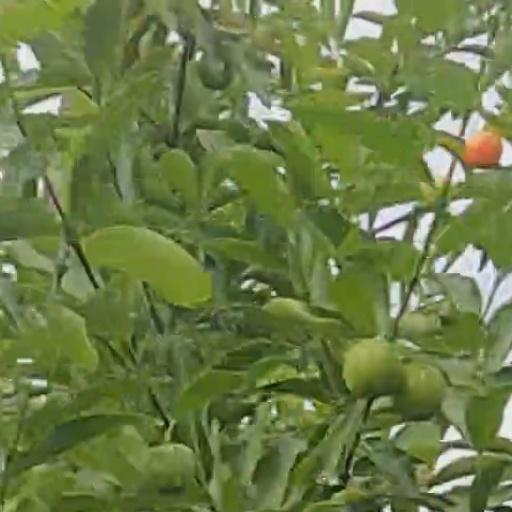acerola_verde: (344, 338, 399, 396), (400, 366, 444, 420)
acerola_vermelha: (465, 131, 498, 167)
